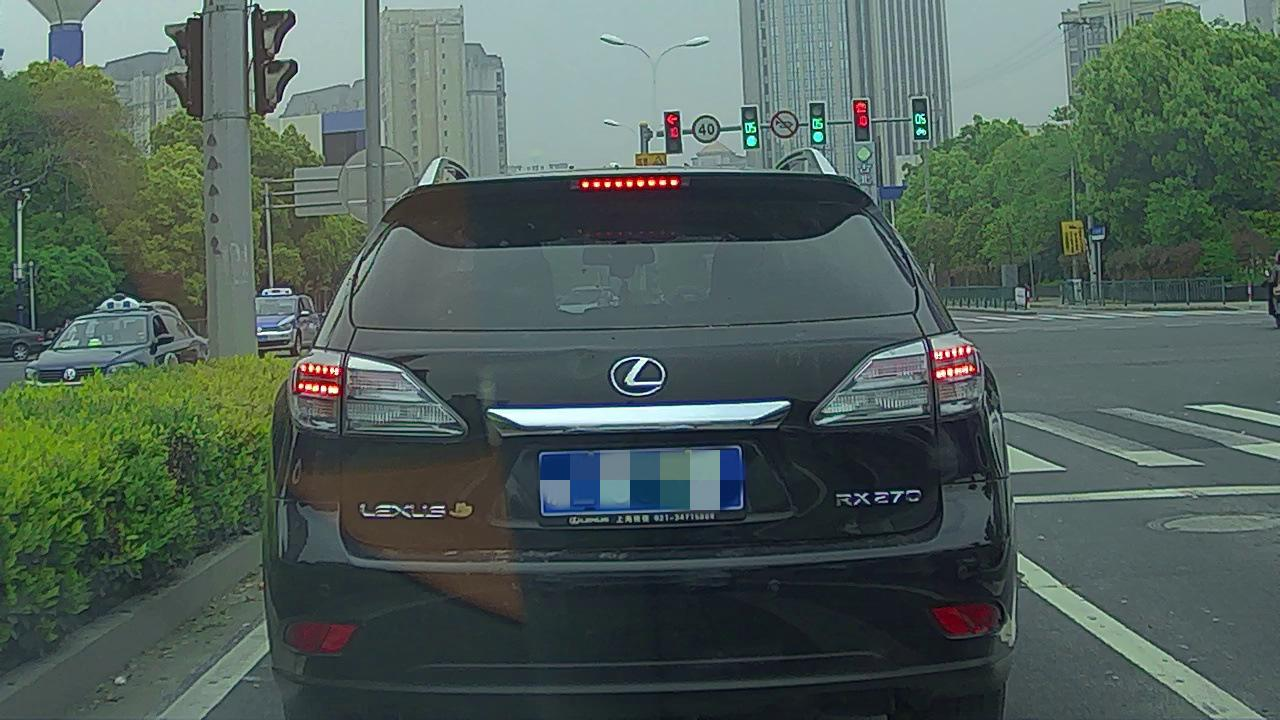traffic_light: (741, 108, 760, 149), (663, 111, 681, 153), (912, 97, 929, 140), (809, 101, 826, 143), (852, 100, 869, 142)
